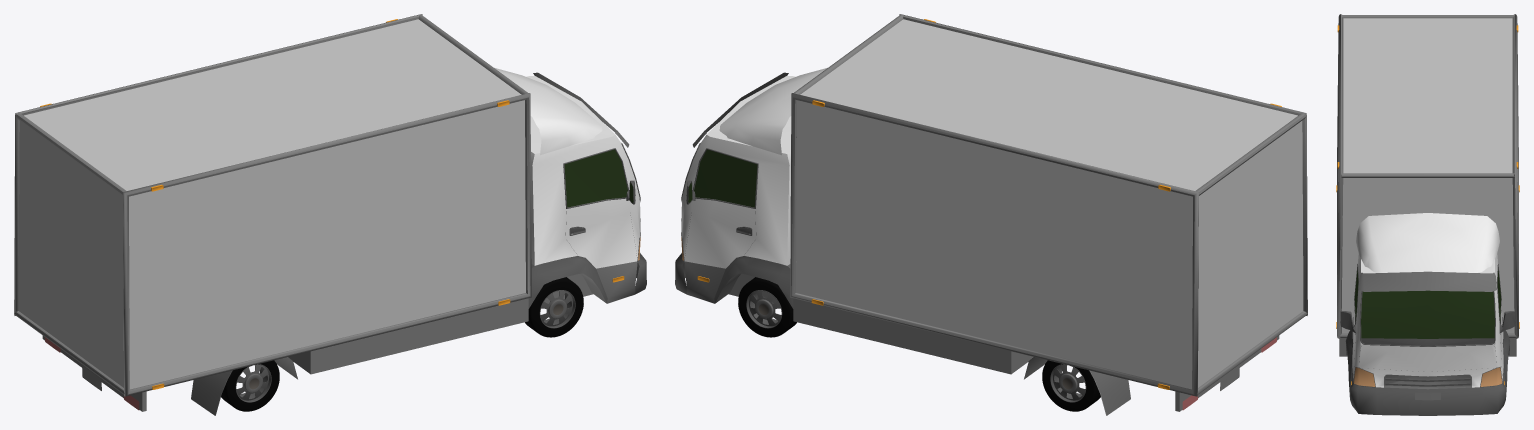
File: car11.glb
3 renders of one model, left to right at view 1: azimuth 30°, elevation 25°; view 2: azimuth 150°, elevation 25°; view 3: azimuth 270°, elevation 25°, orthographic. The views are drawn at different scales.
Visible parts, largest first — view 1: obj0~07___Default_materialGroup_0, ~??_23_materialGroup_1, ~??_19_materialGroup_14, ~??_15_materialGroup_10, ~Material__32_materialGroup_17, obj37~??_21_materialGroup_12, ~??_16_materialGroup_2, ~??_9_materialGroup_15, ~??_10_materialGroup_9, obj17~??_21_materialGroup_7, ~??_3_materialGroup_3; view 2: ~07___Default_materialGroup_6, obj0~07___Default_materialGroup_0, ~??_23_materialGroup_1, ~??_19_materialGroup_14, ~??_15_materialGroup_10, ~Material__32_materialGroup_17, ~??_21_materialGroup_11, ~??_16_materialGroup_2, ~??_9_materialGroup_15, ~??_10_materialGroup_9, ~??_3_materialGroup_3; view 3: obj0~07___Default_materialGroup_0, ~??_19_materialGroup_14, ~??_15_materialGroup_10, ~Material__32_materialGroup_17, ~??_23_materialGroup_1, ~??_9_materialGroup_15, obj57~??_9_materialGroup_13, ~??_2_materialGroup_16, ~??_3_materialGroup_3.
Boxes of the visible parts, x1,y1,x2,y2 form: obj0~07___Default_materialGroup_0: (18,19,525,389); ~??_23_materialGroup_1: (14,14,593,411); ~??_19_materialGroup_14: (494,67,640,268); ~??_15_materialGroup_10: (239,143,646,398); ~Material__32_materialGroup_17: (564,149,633,207); obj37~??_21_materialGroup_12: (525,277,583,337); ~??_16_materialGroup_2: (191,299,566,415); ~??_9_materialGroup_15: (533,72,637,303); ~??_10_materialGroup_9: (235,227,584,402); obj17~??_21_materialGroup_7: (221,360,279,411); ~??_3_materialGroup_3: (82,273,606,415); ~07___Default_materialGroup_6: (796,100,1192,389); obj0~07___Default_materialGroup_0: (800,19,1303,387); ~??_23_materialGroup_1: (728,14,1307,411); ~??_19_materialGroup_14: (681,67,827,268); ~??_15_materialGroup_10: (675,143,1082,398); ~Material__32_materialGroup_17: (688,149,757,207); ~??_21_materialGroup_11: (738,277,1100,411); ~??_16_materialGroup_2: (755,299,1130,415); ~??_9_materialGroup_15: (684,98,751,303); ~??_10_materialGroup_9: (737,227,1086,402); ~??_3_materialGroup_3: (715,273,1239,415); obj0~07___Default_materialGroup_0: (1341,18,1514,333); ~??_19_materialGroup_14: (1352,213,1503,387); ~??_15_materialGroup_10: (1340,264,1515,415); ~Material__32_materialGroup_17: (1354,270,1501,338); ~??_23_materialGroup_1: (1337,14,1518,356); ~??_9_materialGroup_15: (1349,271,1506,396); obj57~??_9_materialGroup_13: (1359,271,1427,291); ~??_2_materialGroup_16: (1353,367,1502,386); ~??_3_materialGroup_3: (1345,342,1510,400).
Size of the model in its own units: 7.42 by 3.43 by 2.7.
